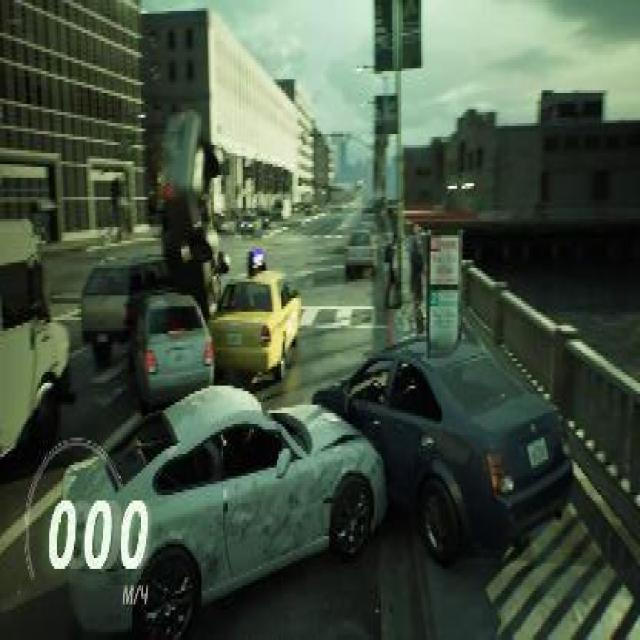accident: (51, 320, 577, 640), (131, 257, 303, 421), (139, 101, 223, 424), (75, 243, 218, 408)
